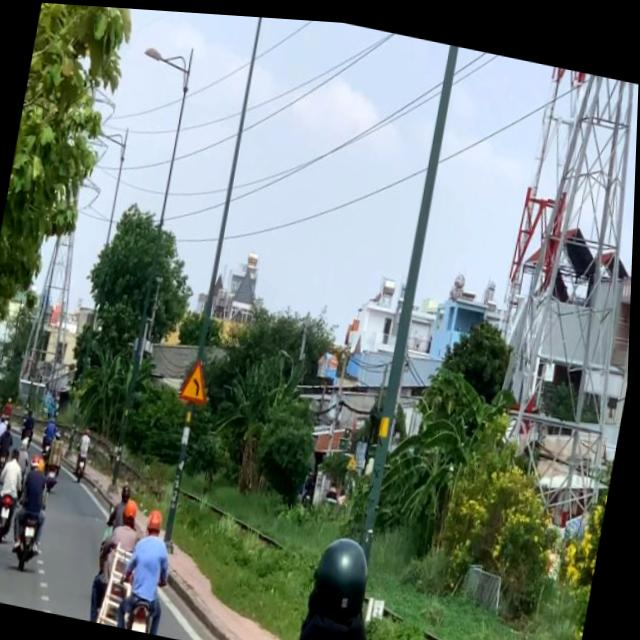cho ngoat nguy hiem vong ben trai: (182, 354, 215, 401)
